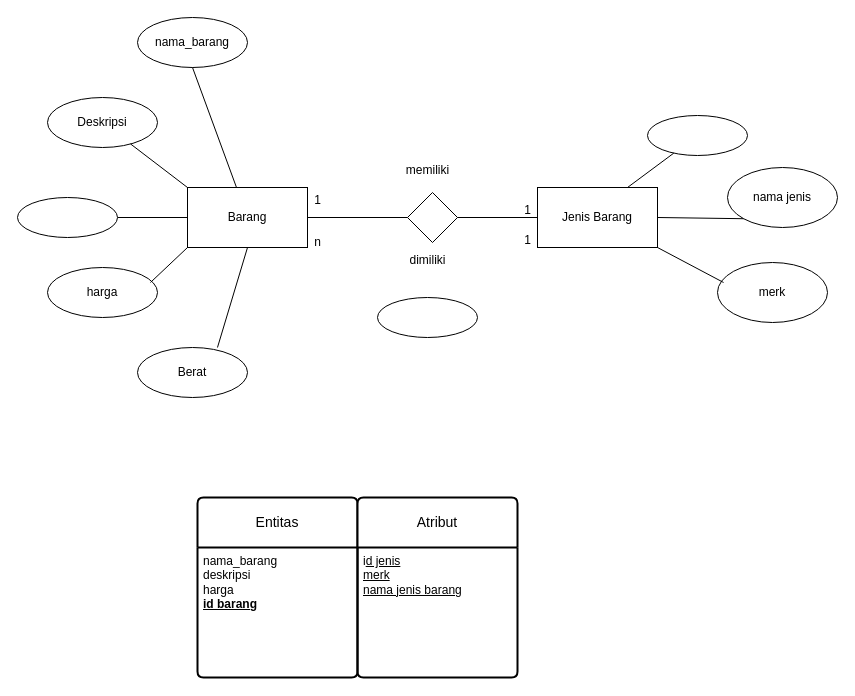
Some shapes in this 855 by 696 pixel diagram are drawn without their labels. Each missing label, with the centre of its shape:
"Attribute" belongs at (427,317).
"id jenis" belongs at (697,135).
"id_barang" belongs at (67,217).
